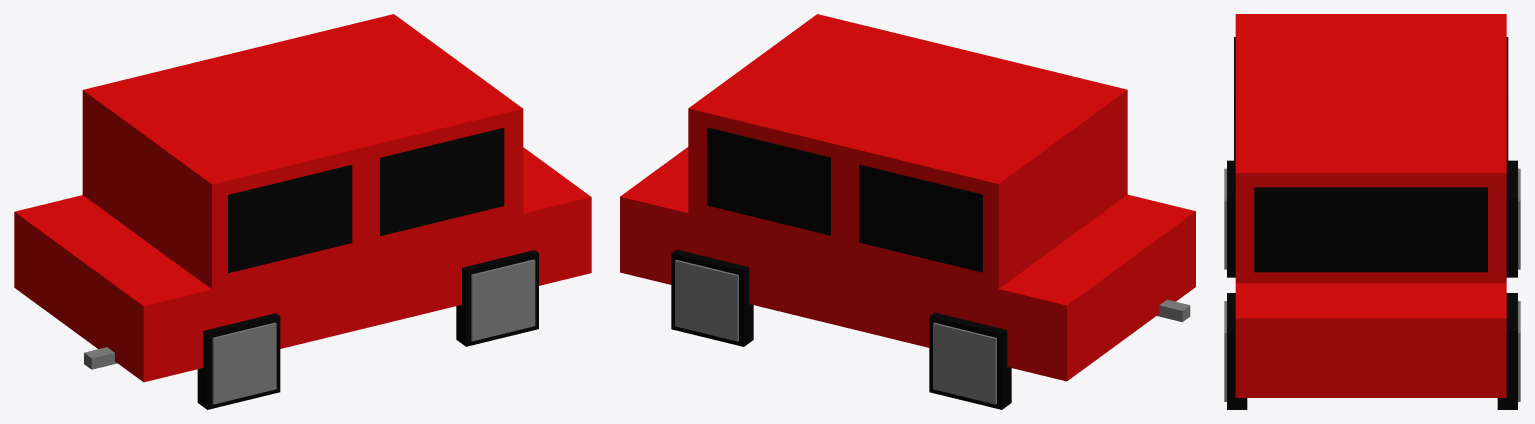
The model's file is Car.fbx.
3 views of the same model, side by side, from view 1: azimuth 30°, elevation 25°; view 2: azimuth 150°, elevation 25°; view 3: azimuth 270°, elevation 25° (orthographic). The views are drawn at different scales.
Parts seen in each view (by area): view 1: Cube.011; view 2: Cube.011; view 3: Cube.011.
Part boxes in pixels (x1,y1,x2,y2): Cube.011: (14,14,591,409); Cube.011: (620,14,1195,409); Cube.011: (1224,14,1520,409).
Size of the model in its own units: 788 by 352 by 410.
